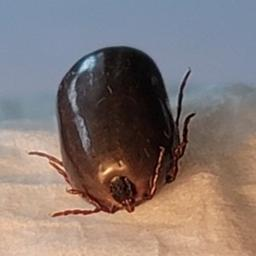Rhipicephalus sanguineus: (29, 45, 197, 218)
